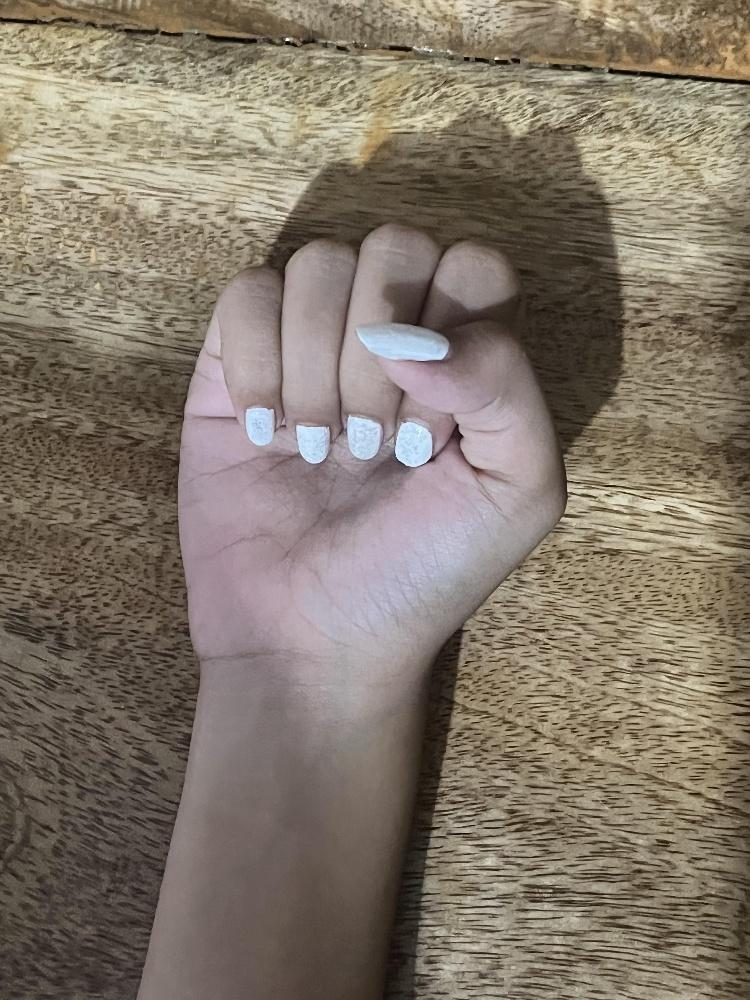s: (176, 221, 569, 652)
